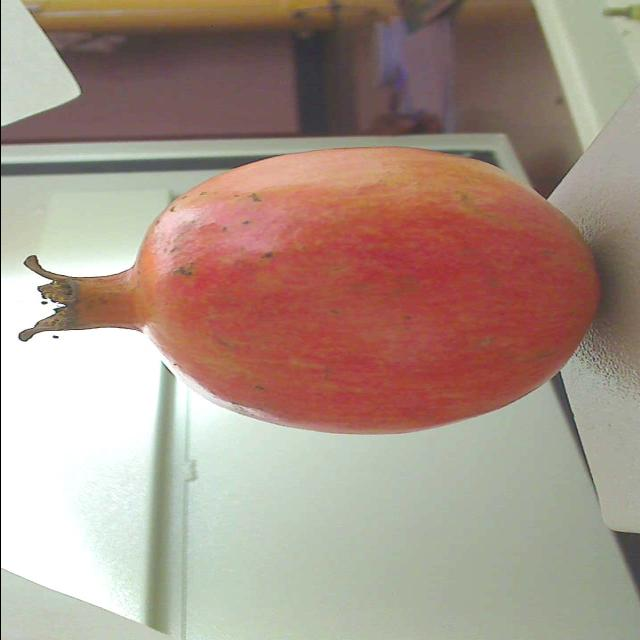pomegranate: (1, 140, 608, 442)
